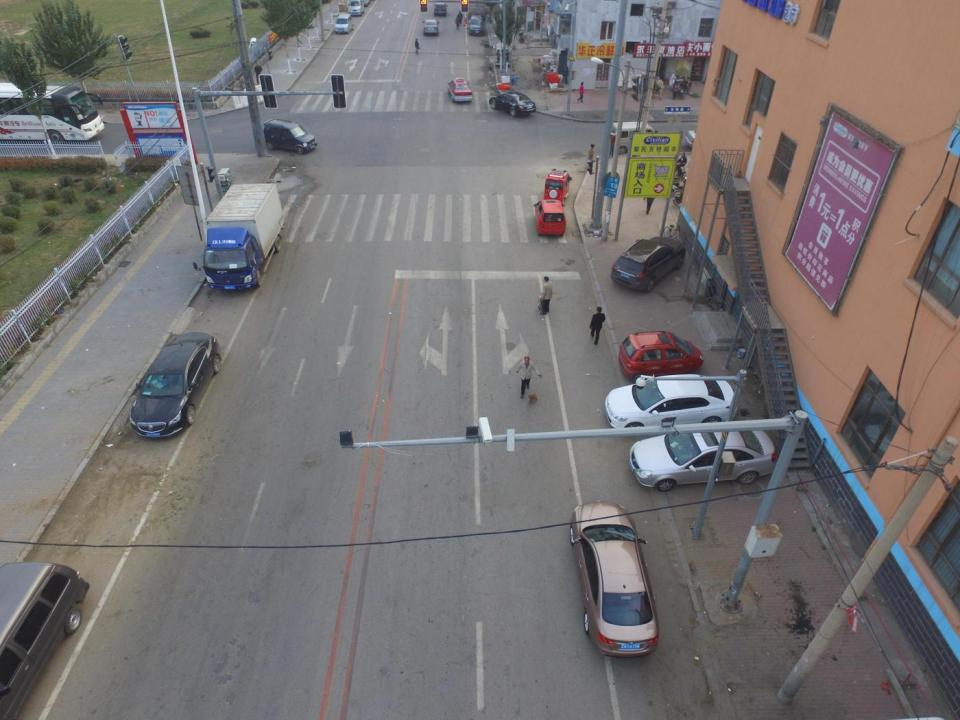bus: (0, 82, 106, 144)
car: (568, 500, 659, 658), (629, 424, 777, 493), (130, 333, 222, 438), (604, 373, 737, 435), (618, 331, 703, 383), (610, 236, 687, 293), (262, 118, 317, 154), (489, 91, 536, 117), (447, 78, 473, 103), (334, 13, 354, 34), (468, 15, 485, 36), (421, 19, 440, 36), (432, 2, 448, 16)
truck: (193, 182, 285, 290)
van: (0, 562, 90, 719), (347, 0, 364, 16)
